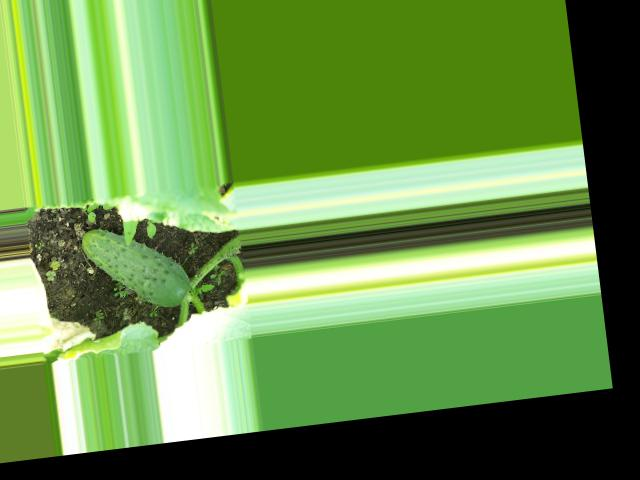cucumber: (80, 218, 194, 317)
